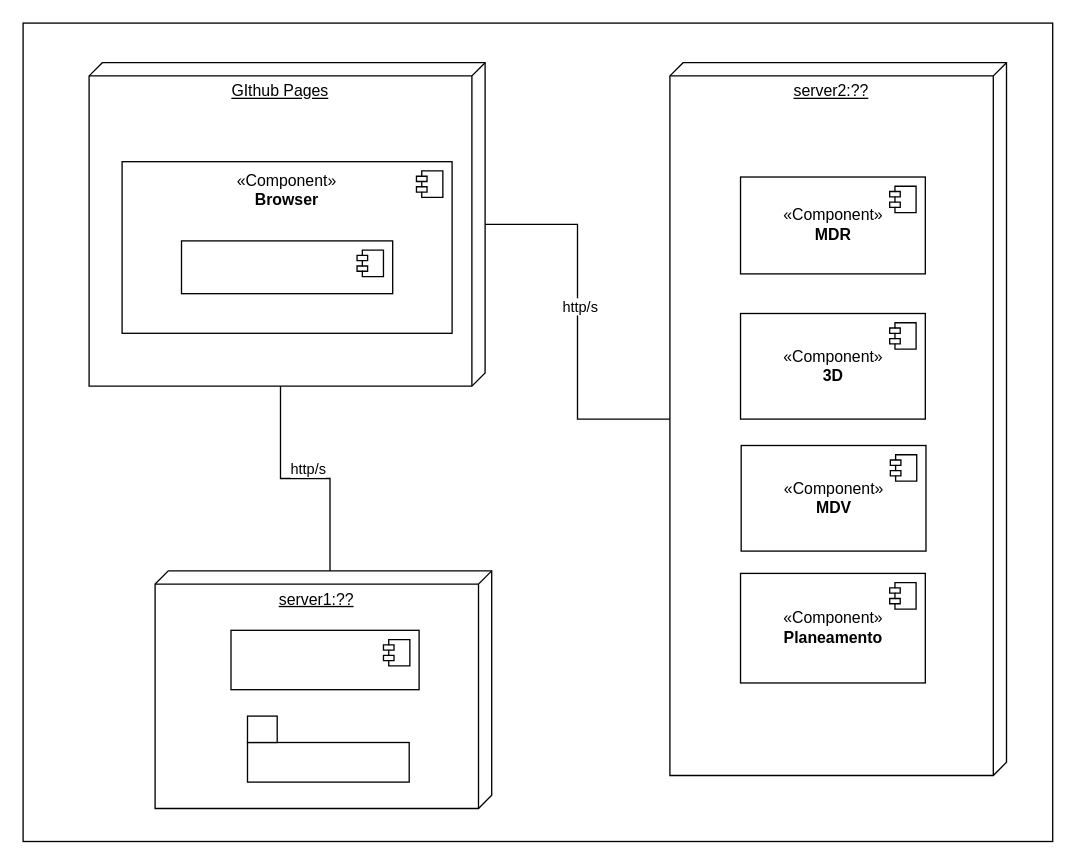
The diagram is 1076 pixels wide and 865 high, and some of its shapes have lost their labels. The shapes that lost their labels are listed below. From the top down, each one's centre as x and y in pixels, then its label:
At [286,267]: "«Component » UI".
At [324,659]: "«Component » Http Server".
At [327,761]: "UI".
